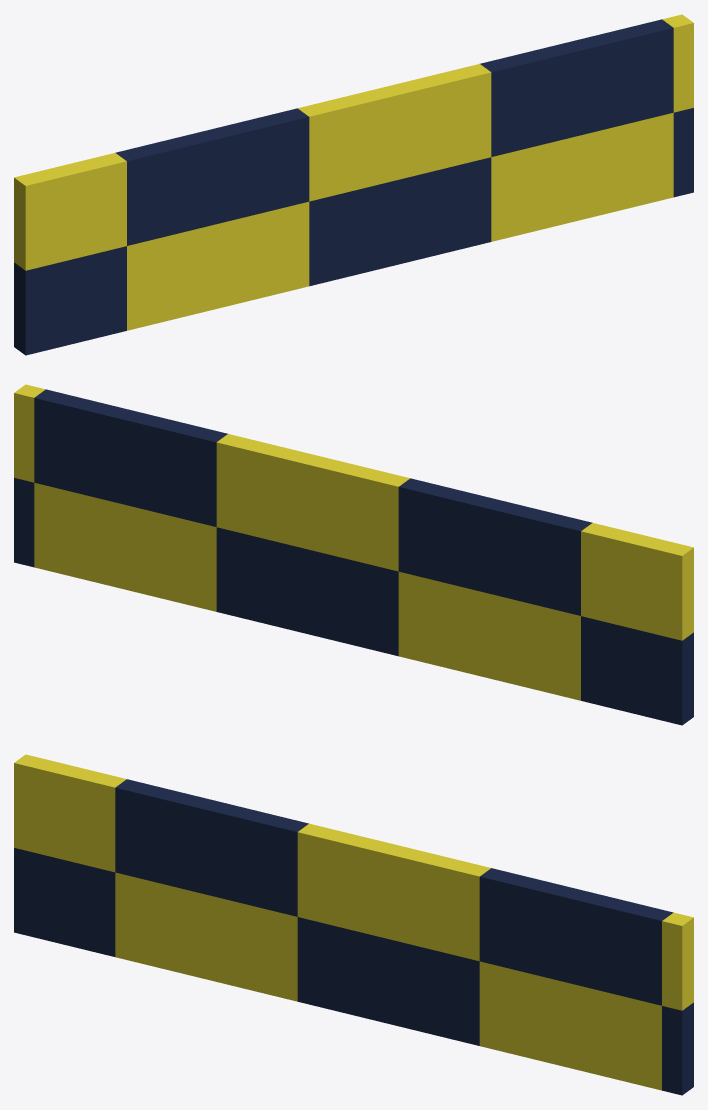
Rendered from riot_van_side_door_markings.glb.
3 renders of one model, top to bottom at view 1: azimuth 30°, elevation 25°; view 2: azimuth 150°, elevation 25°; view 3: azimuth 330°, elevation 25°, orthographic.
Visible parts, largest first — view 1: body:compound; view 2: body:compound; view 3: body:compound.
Boxes of the visible parts, x1,y1,x2,y2 form: body:compound: [14, 14, 693, 355]; body:compound: [14, 384, 693, 725]; body:compound: [14, 754, 693, 1095].
Size of the model in its own units: 1.03 by 0.25 by 0.0312.
